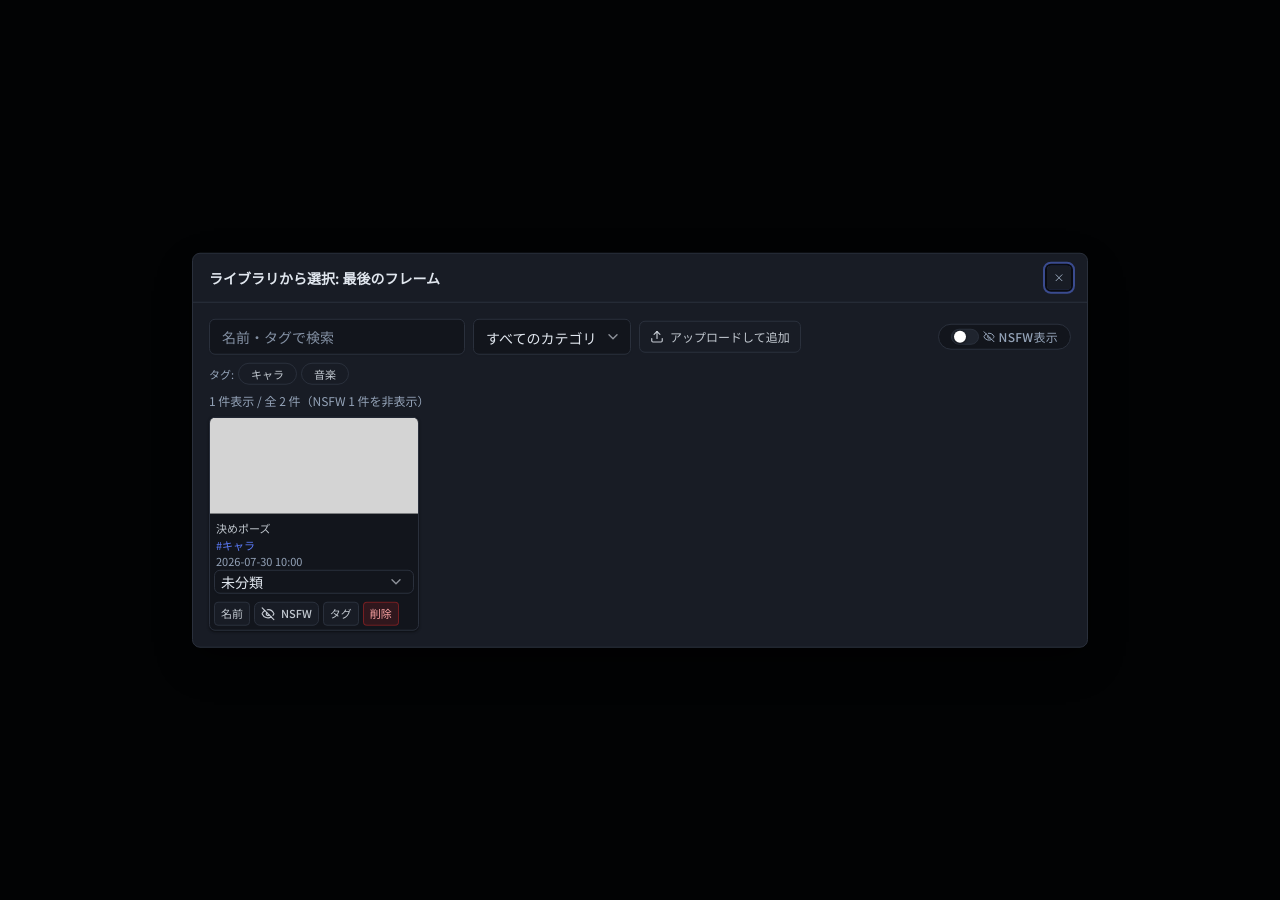
LibraryPickerModal › NSFW 表示はモーダル内で切り替えられる
Expected: the text "決めポーズ" is shown, [216,520,270,536]
Expected: the text "ひみつ" is not shown
Click the switch named "NSFW表示" at (965, 337), box [951,329,979,345]
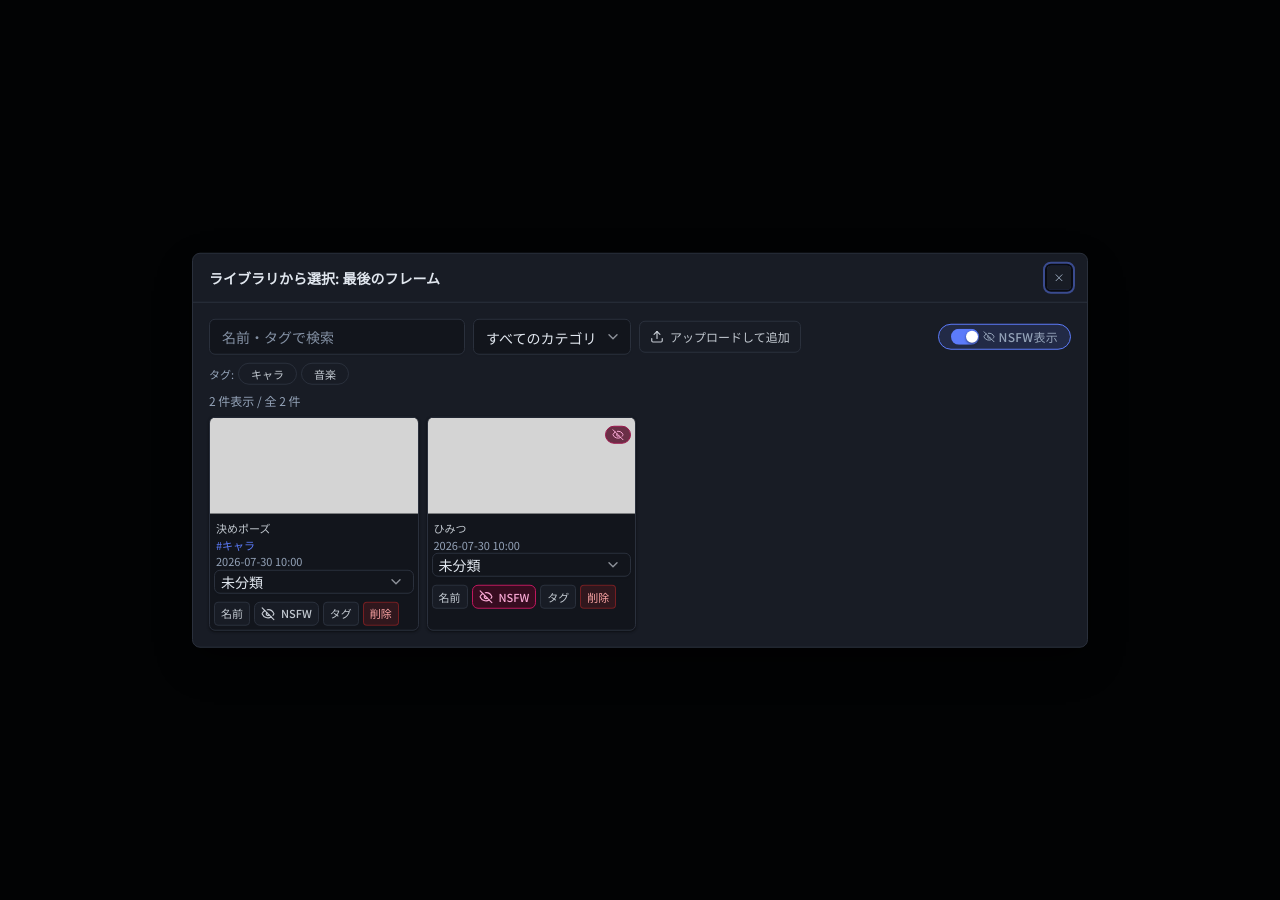
Now the text "ひみつ" is shown, box [434,520,466,536]
Now the text "2 件表示 / 全 2 件" is shown, box [209,392,300,409]
